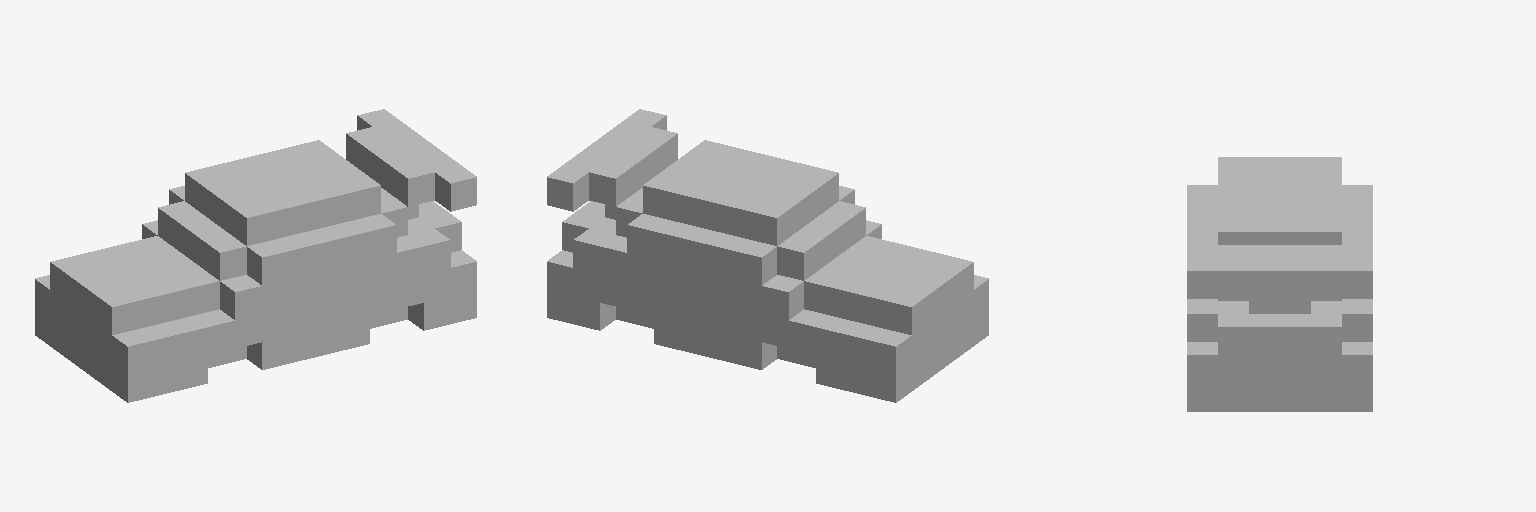
File: racer-v2-orange.obj
3 renders of one model, left to right at view 1: azimuth 30°, elevation 25°; view 2: azimuth 150°, elevation 25°; view 3: azimuth 270°, elevation 25°, orthographic.
Visible parts, largest first — view 1: object 1; view 2: object 1; view 3: object 1.
Part boxes in pixels (x1,y1,x2,y2): object 1: (35, 109, 476, 402); object 1: (547, 109, 988, 402); object 1: (1187, 157, 1372, 411).
Size of the model in its own units: 1.3 by 0.5 by 0.6.